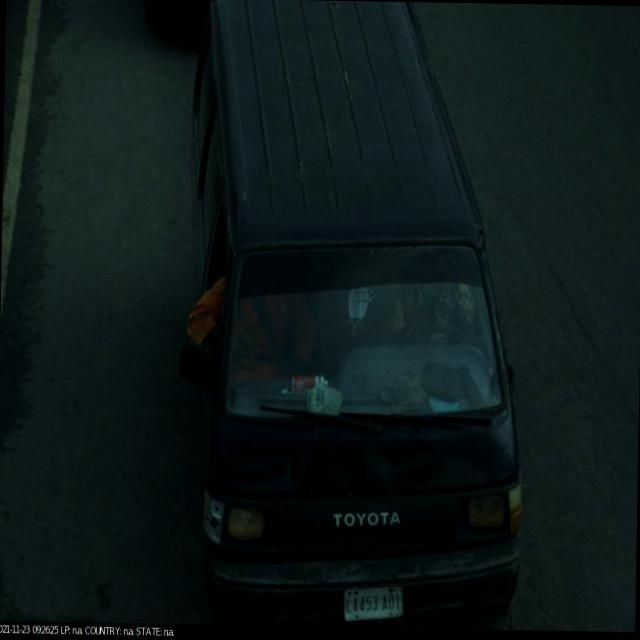person_with_seatbelt: (376, 238, 484, 348)
